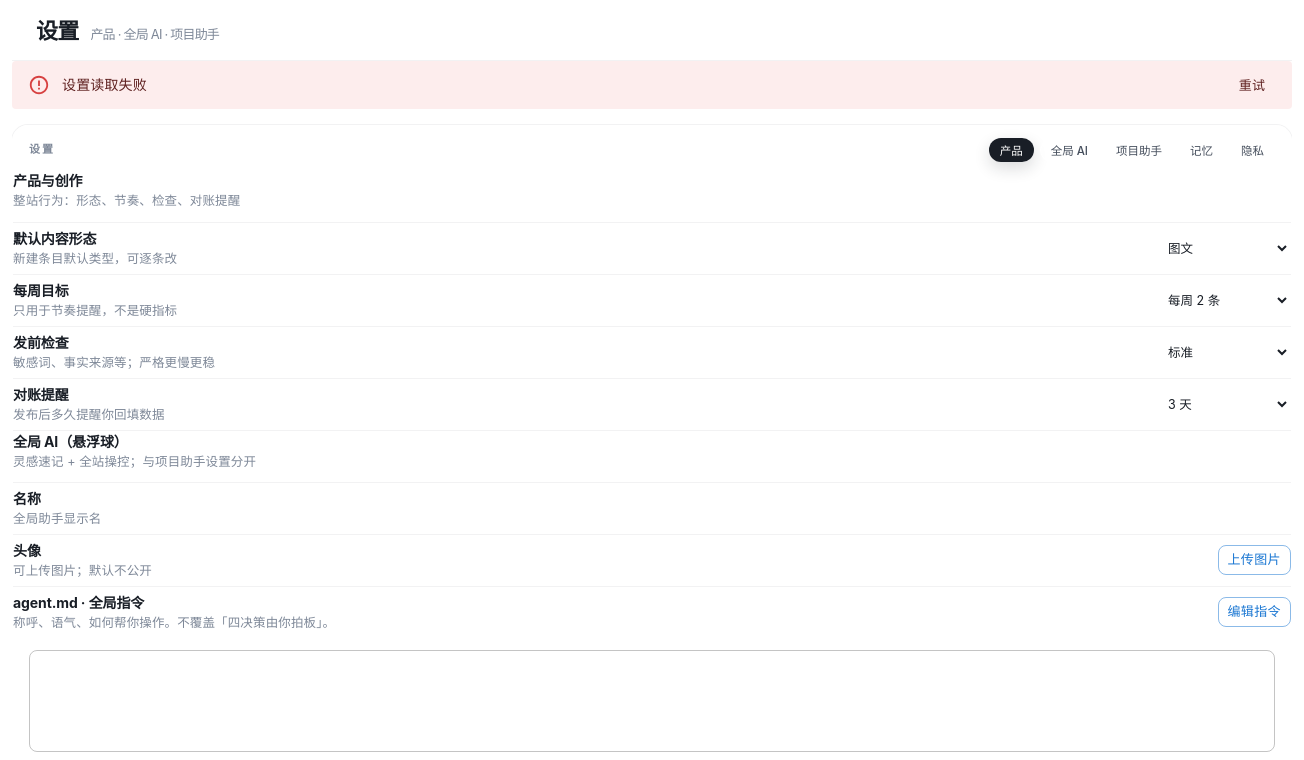
SettingsPage › offers a retry when loading fails and recovers
This screenshot has width=1304, height=760.
Check: the message shows "设置读取失败", box [62, 76, 147, 92]
Step 1. Click the button "重试" → (1252,86), box [1220, 70, 1284, 101]
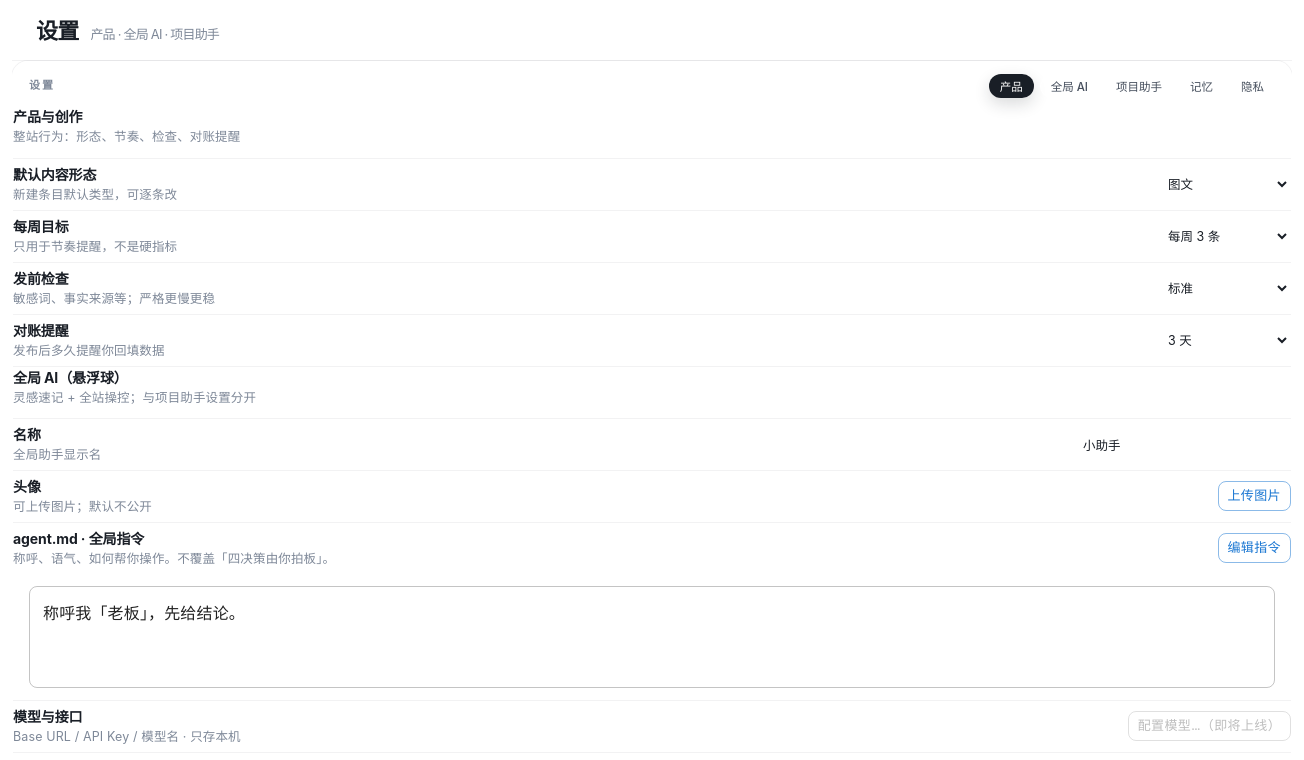
Check: the text "默认内容形态" is shown, box [13, 166, 96, 183]
Check: the message "设置读取失败 重试" is gone
